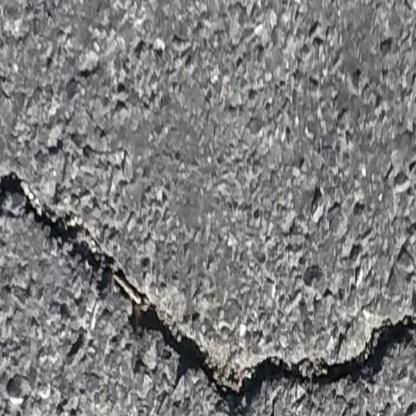Cracks: (0, 167, 416, 416)
